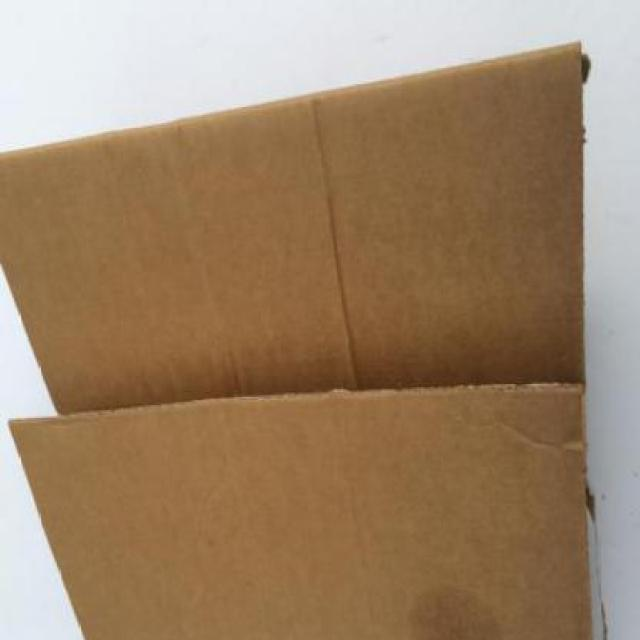box: (0, 32, 632, 639)
